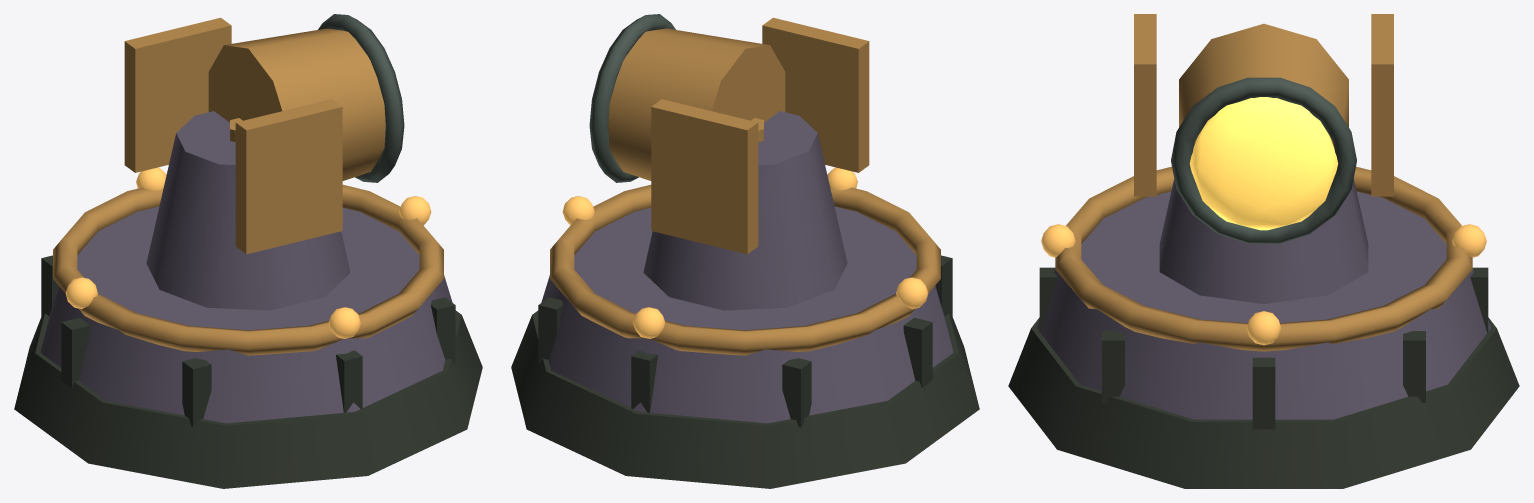
File: tower_laser_laserPrism.glb
3 renders of one model, left to right at view 1: azimuth 30°, elevation 25°; view 2: azimuth 150°, elevation 25°; view 3: azimuth 270°, elevation 25°, orthographic. The views are drawn at different scales.
Parts seen in each view (by area): view 1: stone_1, foot_0, column_15, rim_2, lens_housing_17, cooling_fin_20, cooling_fin_21, focus_ring_18, mortar_6, mortar_7, mortar_5, mortar_4 (+5 smaller); view 2: stone_1, foot_0, column_15, rim_2, lens_housing_17, cooling_fin_21, cooling_fin_20, focus_ring_18, mortar_8, mortar_7, mortar_9, mortar_10 (+5 smaller); view 3: stone_1, foot_0, rim_2, lens_glass_19, column_15, focus_ring_18, lens_housing_17, cooling_fin_20, cooling_fin_21, mortar_3, mortar_4, mortar_10 (+5 smaller).
Part boxes in pixels (box(x1,y1,x2,y2)): stone_1: box(40, 206, 456, 423); foot_0: box(14, 310, 482, 488); column_15: box(146, 111, 350, 310); rim_2: box(53, 184, 443, 355); lens_housing_17: box(208, 28, 385, 180); cooling_fin_20: box(235, 99, 342, 254); cooling_fin_21: box(124, 17, 231, 172); focus_ring_18: box(318, 14, 404, 182); mortar_6: box(182, 358, 211, 427); mortar_7: box(61, 317, 90, 387); mortar_5: box(336, 350, 362, 412); mortar_4: box(431, 297, 455, 363); stone_1: box(537, 206, 953, 423); foot_0: box(511, 310, 979, 488); column_15: box(643, 111, 847, 310); rim_2: box(550, 184, 940, 355); lens_housing_17: box(608, 28, 785, 180); cooling_fin_21: box(651, 99, 758, 254); cooling_fin_20: box(762, 17, 869, 172); focus_ring_18: box(589, 14, 675, 182); mortar_8: box(782, 358, 811, 427); mortar_7: box(903, 317, 932, 387); mortar_9: box(631, 350, 657, 412); mortar_10: box(538, 297, 562, 363); stone_1: box(1037, 191, 1490, 419); foot_0: box(1008, 317, 1519, 488); rim_2: box(1055, 166, 1472, 351); lens_glass_19: box(1189, 97, 1338, 230); column_15: box(1159, 179, 1368, 303); focus_ring_18: box(1171, 77, 1356, 243); lens_housing_17: box(1179, 23, 1348, 181); cooling_fin_20: box(1134, 14, 1156, 196); cooling_fin_21: box(1371, 14, 1393, 196); mortar_3: box(1252, 357, 1275, 429); mortar_4: box(1102, 331, 1124, 402); mortar_10: box(1403, 331, 1425, 402).
Size of the model in its own units: 0.5326 by 0.4405 by 0.56.
